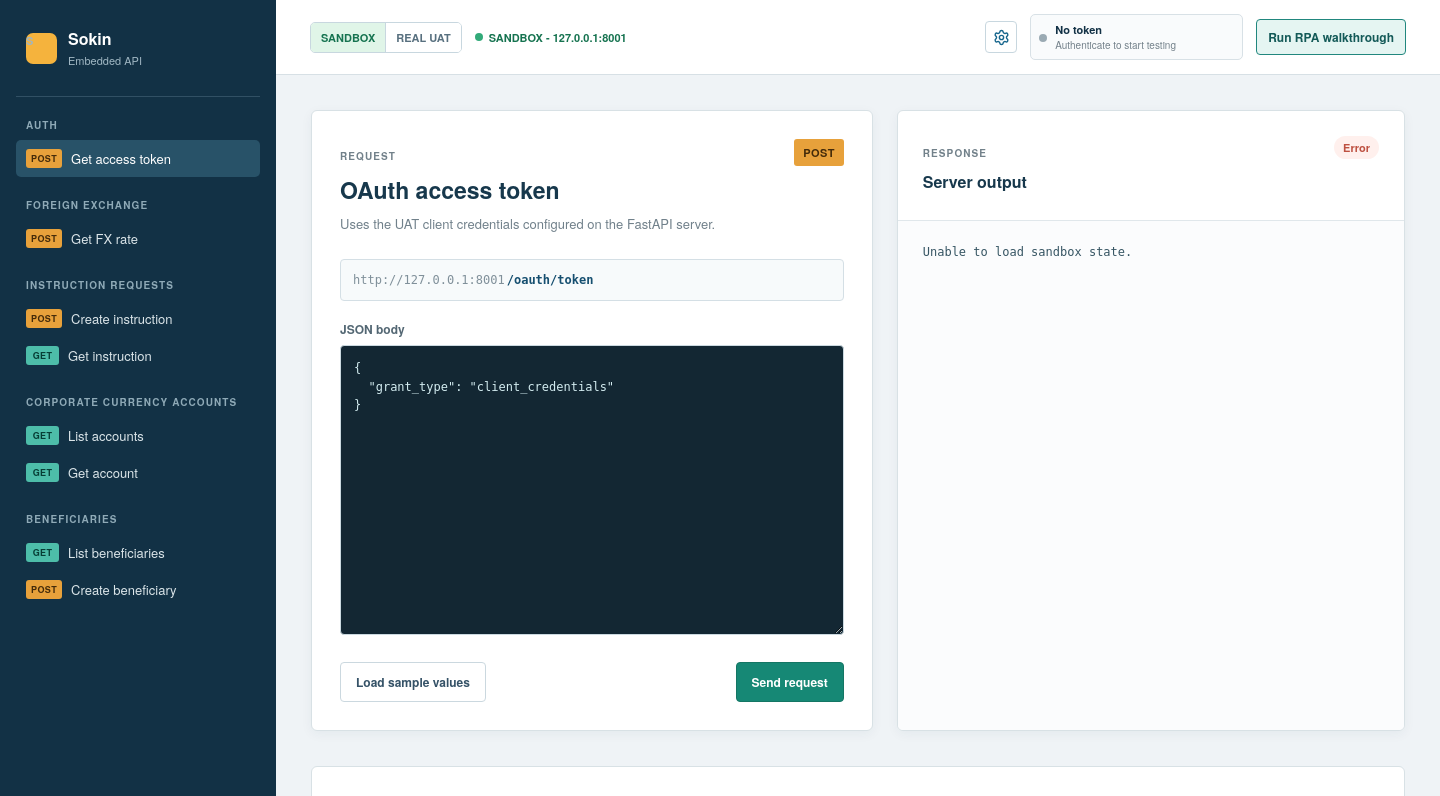
Test case: App › sendRequest shows HTTP error text for non-JSON error body
Click the button "Send request": (790, 682) top-left (736, 662), bottom-right (844, 702)
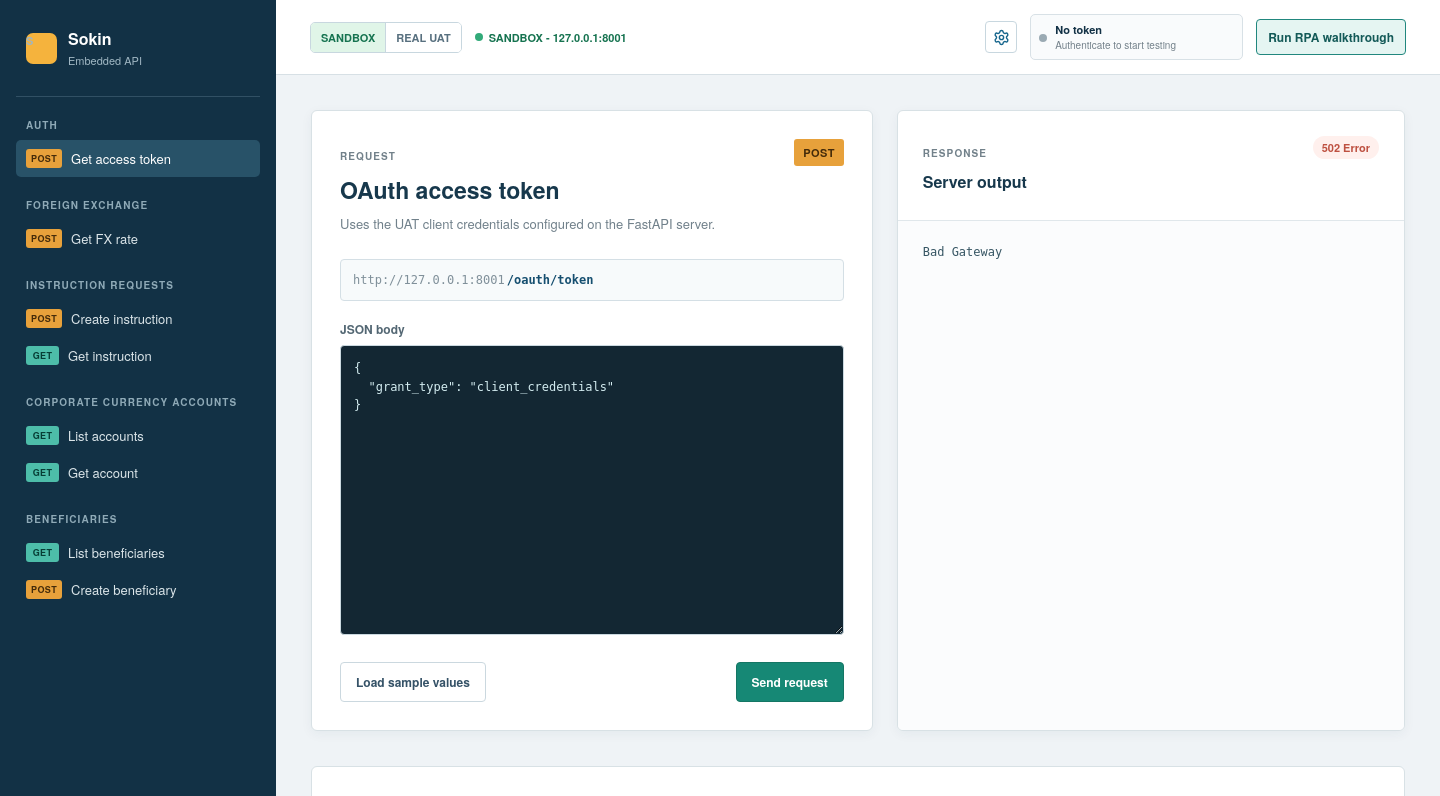
Check: the text "Bad Gateway" is shown, box top-left (898, 221), bottom-right (1404, 730)
Check: the text "502 Error" is shown, box top-left (1313, 136), bottom-right (1379, 159)
